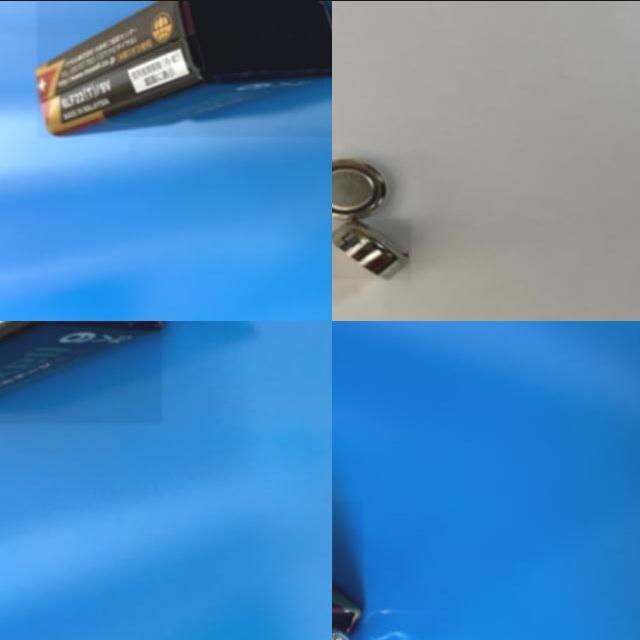9V: (37, 0, 332, 136), (0, 320, 162, 423)
